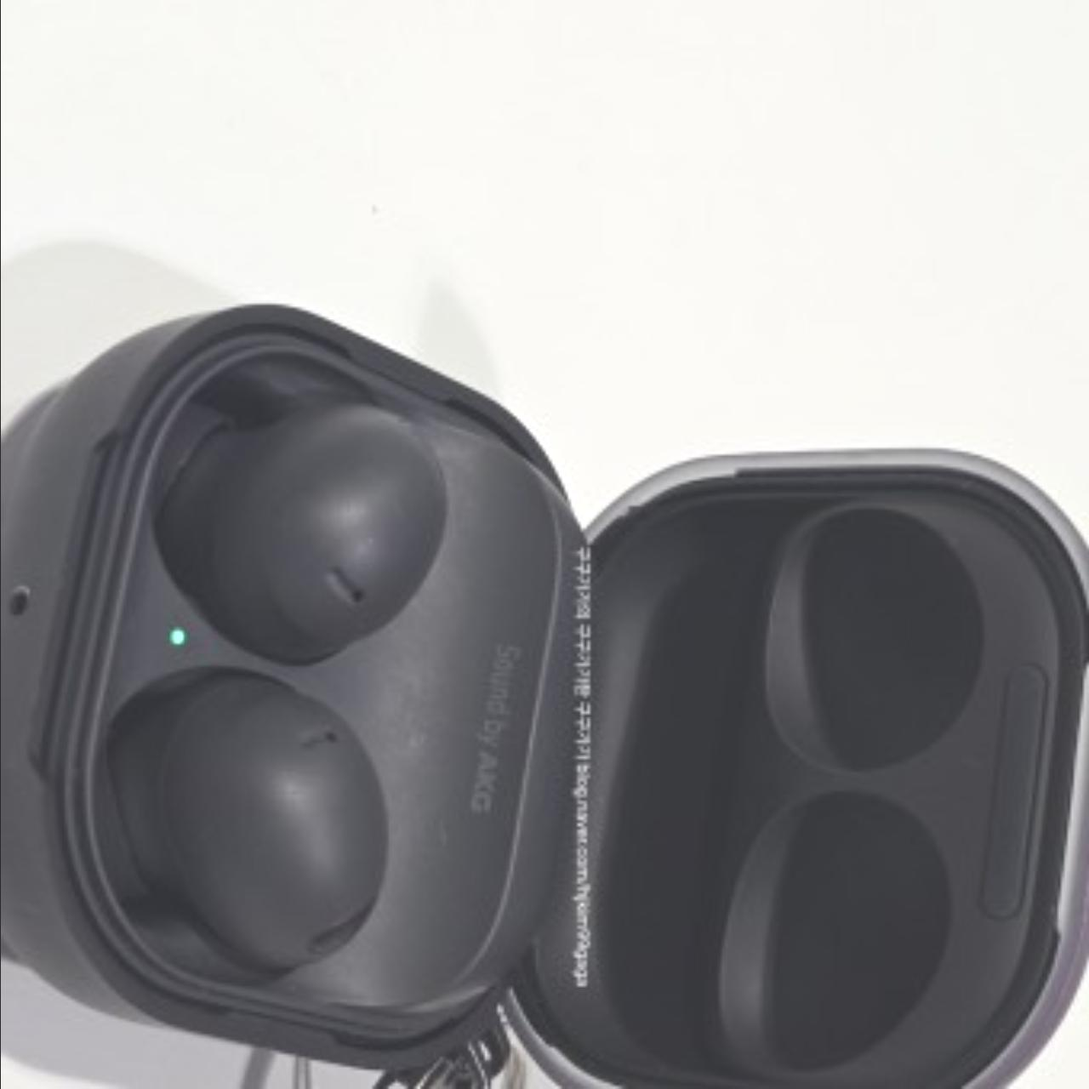Buds: (0, 294, 1089, 1089)
Buds_Units: (92, 661, 394, 983), (146, 396, 456, 672)
